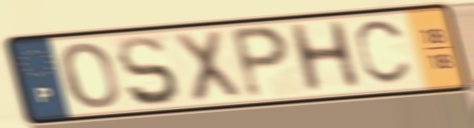C: (352, 17, 415, 88)
H: (283, 18, 366, 97)
O: (59, 40, 123, 112)
P: (227, 23, 294, 103)
S: (114, 33, 183, 109)
X: (169, 27, 246, 106)
